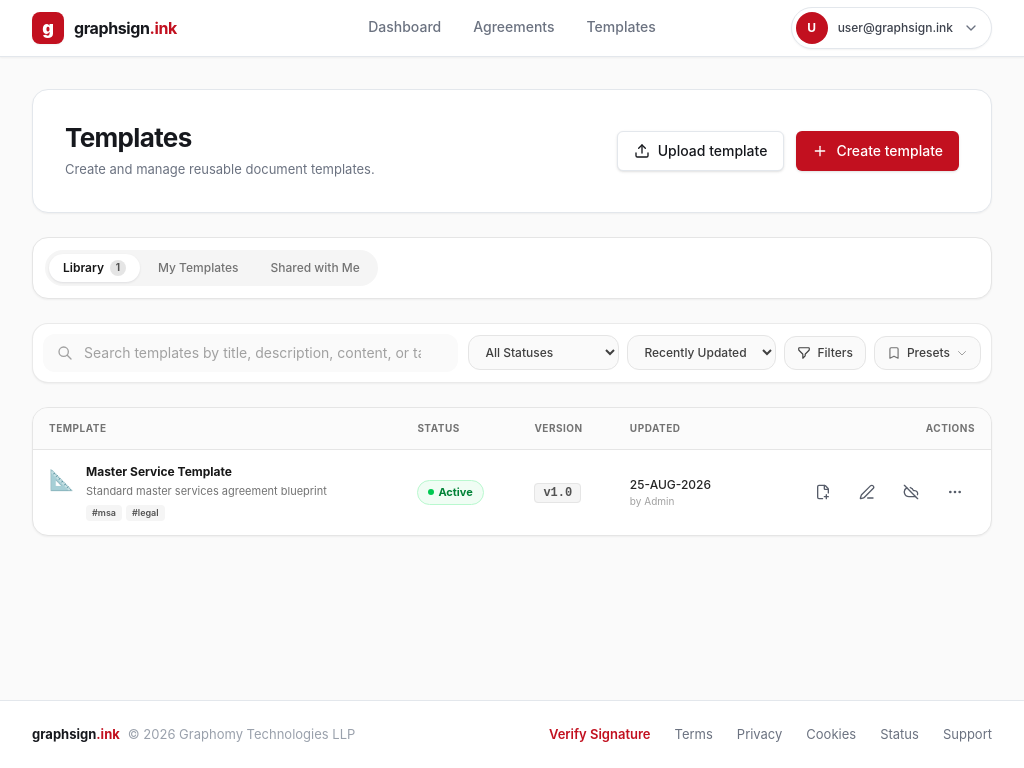
Scenario: TemplateManagementPage Unit Tests (Epic INK-11, INK-264, INK-270) › opens edit modal when clicking Edit action
The width and height of the screenshot is (1024, 768).
Check: the heading "Master Service Template" is shown, box x1=86 y1=464 x2=232 y2=479
Step 1. Click the button named "Edit" → (867, 492), box x1=847 y1=472 x2=887 y2=512
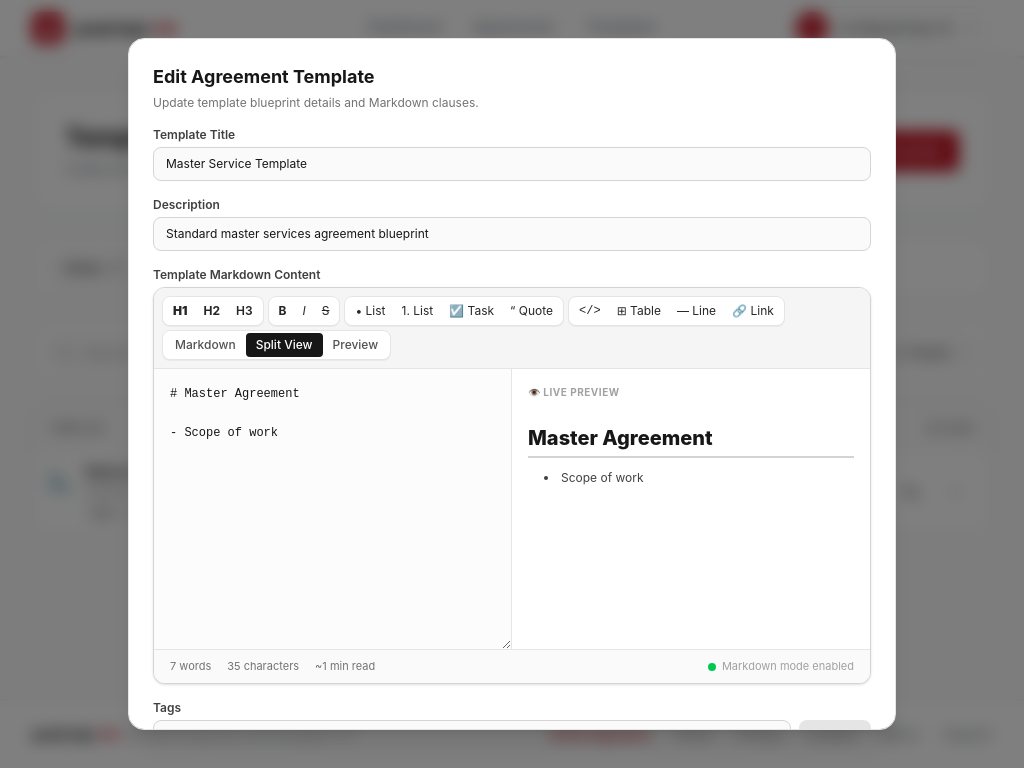
Check: the heading "Edit Agreement Template" is shown, box x1=153 y1=66 x2=374 y2=87
